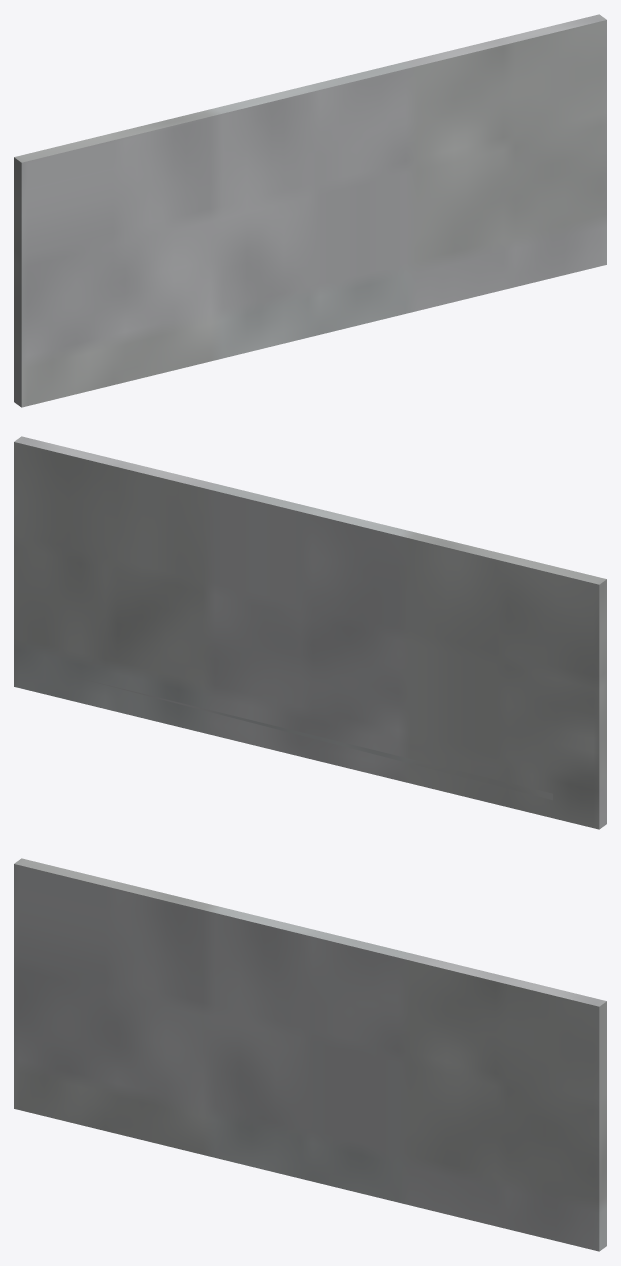
3 views of the same model, one above another, from view 1: azimuth 30°, elevation 25°; view 2: azimuth 150°, elevation 25°; view 3: azimuth 330°, elevation 25° (orthographic).
Size of the model in its own units: 0.5003 by 0.2 by 0.0112.
